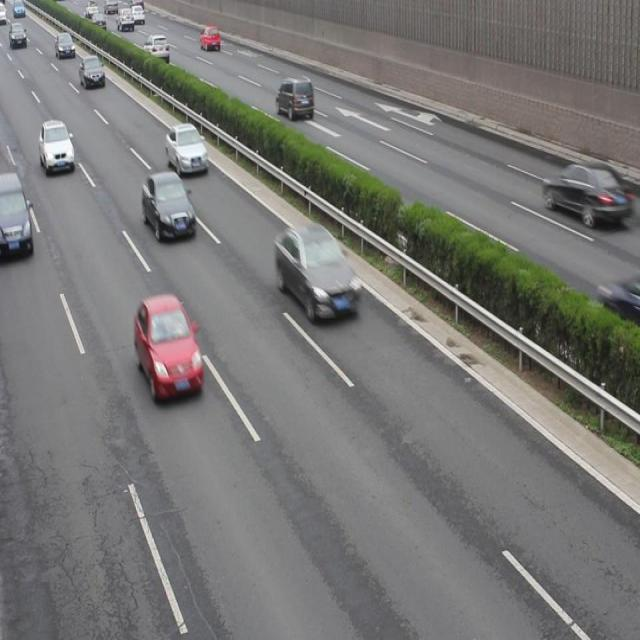car: (274, 226, 360, 322), (135, 295, 201, 400), (543, 163, 629, 226), (142, 172, 196, 242), (0, 173, 32, 256), (165, 124, 209, 172), (39, 118, 74, 172), (276, 75, 314, 119), (80, 54, 104, 86), (142, 34, 169, 60), (55, 32, 76, 58), (200, 24, 219, 50)
